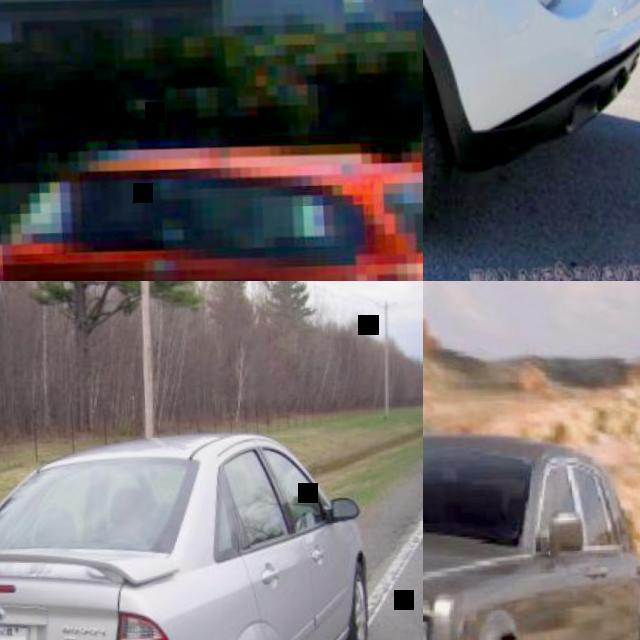car: (1, 432, 371, 639), (0, 137, 412, 270), (416, 5, 635, 223), (421, 433, 639, 637)
